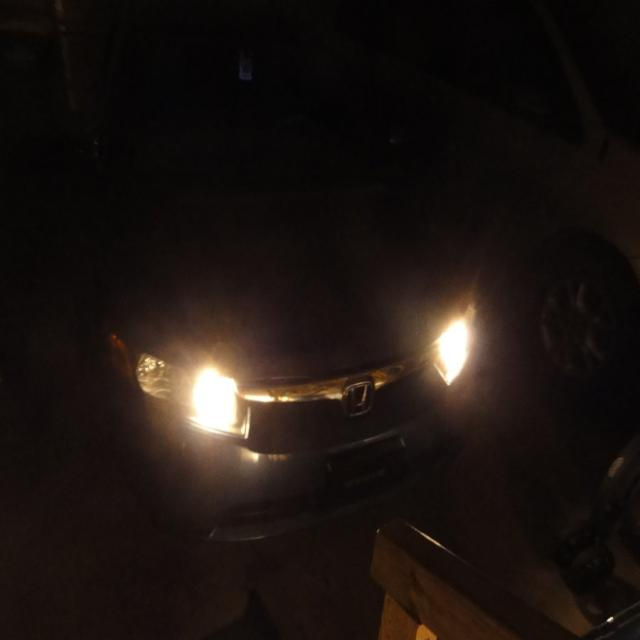Car: (88, 60, 490, 557)
